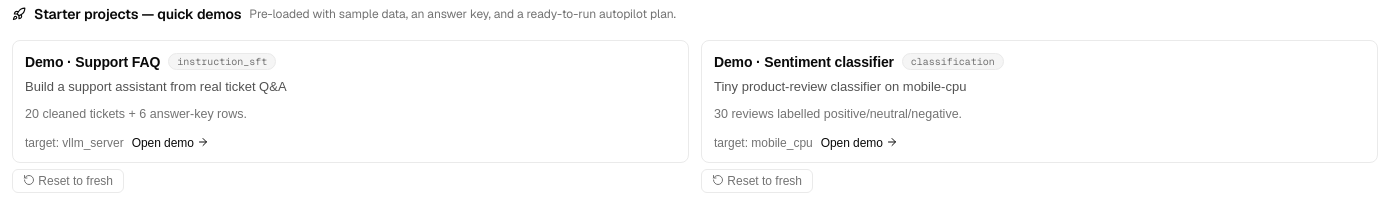
Test: DemoProjectTiles › disables the other tile while one is being seeded
Expected: the text "Demo · Support FAQ" is shown, [25,54,160,70]
Step 1. Click the button with aria-label "Open the Demo · Support FAQ starter project" → {"x": 93, "y": 62}, box [12,40,689,163]
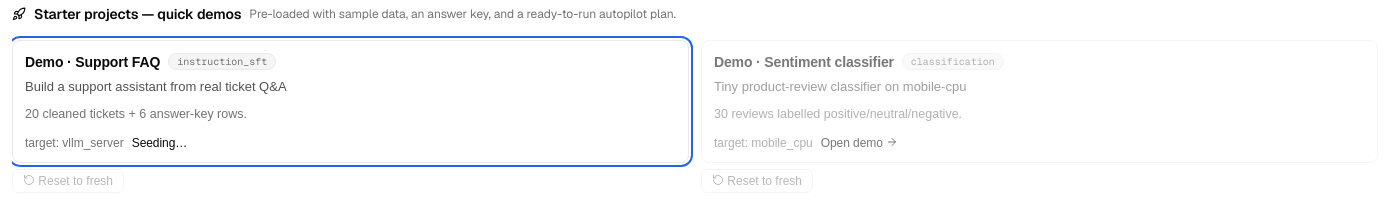
Now the button with aria-label "Open the Demo · Sentiment classifier starter project" is disabled, box [701,40,1378,163]
Now the button with aria-label "Open the Demo · Support FAQ starter project" shows "Seeding…", box [12,40,689,163]
